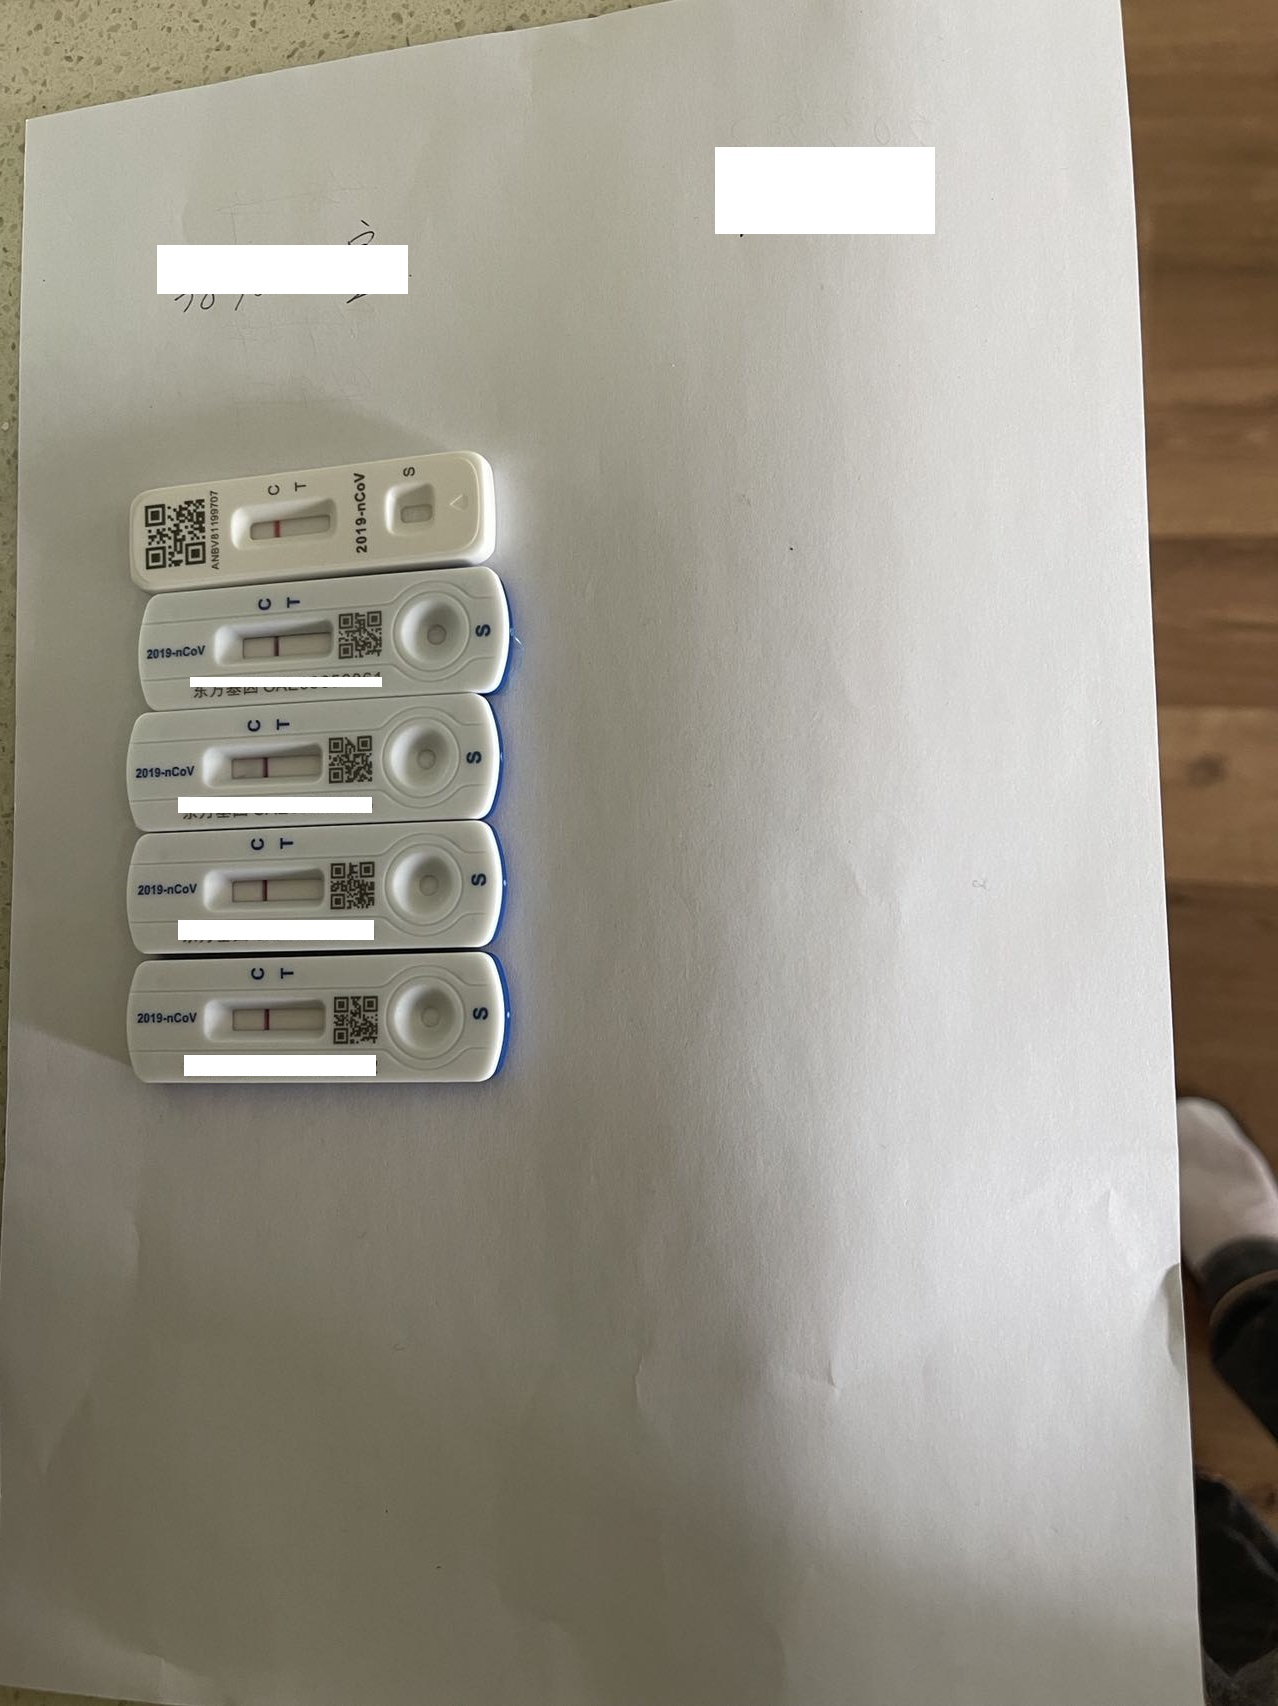negative: (208, 1001, 326, 1040), (208, 868, 324, 907), (208, 748, 318, 787), (222, 628, 330, 660), (238, 513, 341, 544)
